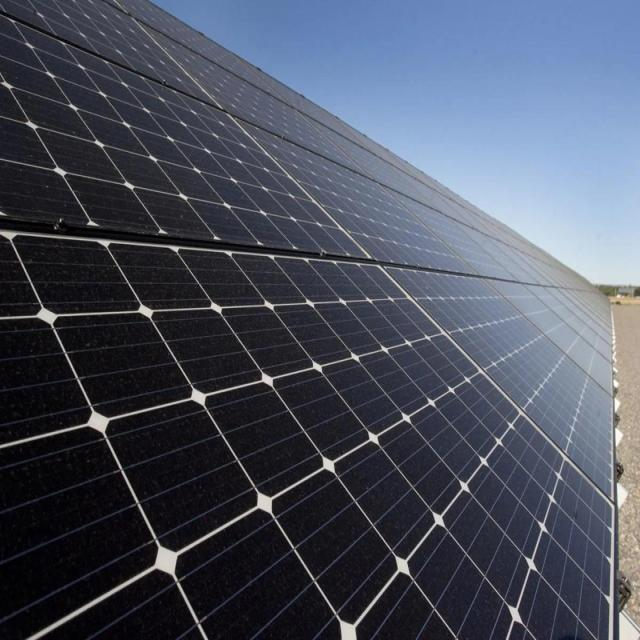clean-solar-panel: (0, 3, 619, 638)
